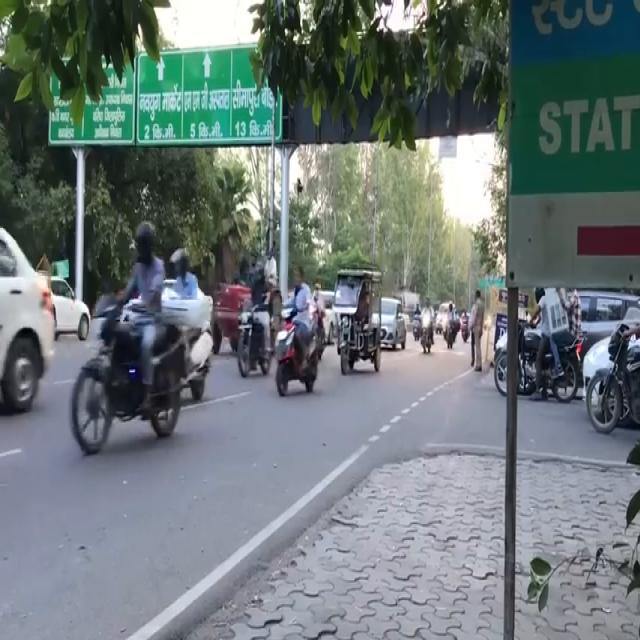MOTORCYCLE: (78, 295, 182, 437), (589, 328, 640, 436), (273, 308, 324, 396), (234, 286, 272, 377), (445, 312, 459, 348), (421, 308, 432, 352)
